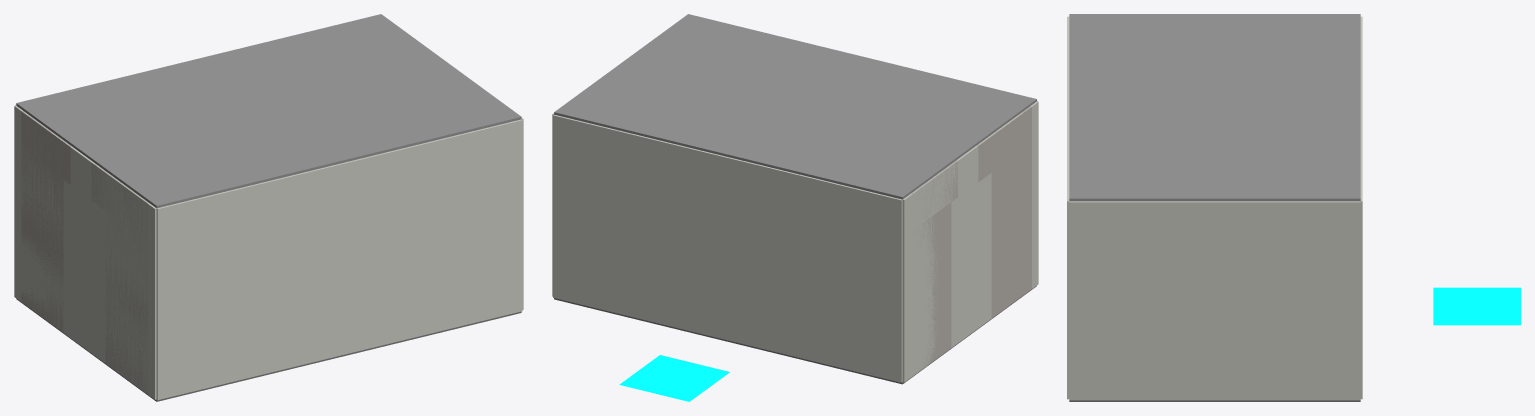
File: OfficeBuilding_5F.fbx
3 views of the same model, side by side, from view 1: azimuth 30°, elevation 25°; view 2: azimuth 150°, elevation 25°; view 3: azimuth 270°, elevation 25° (orthographic). The views are drawn at different scales.
Parts seen in each view (by area): view 1: F5_Ceiling, F5_Wall_F, F1_Wall_F, F2_Wall_F, F3_Wall_F, F4_Wall_F, F4_Wall_L, F2_Wall_L, F1_Wall_L, F3_Wall_L, F5_Wall_L, F5_ExecutiveOffice_W (+9 smaller); view 2: F5_Ceiling, F5_Wall_B, F1_Wall_B, F2_Wall_B, F3_Wall_B, F4_Wall_B, F5_Wall_L, F3_Wall_L, F2_Wall_L, F1_Wall_L, F4_Wall_L, EVAC_AssemblyMarker (+11 smaller); view 3: F5_Ceiling, F1_Wall_R, F5_Wall_R, F2_Wall_R, F3_Wall_R, F4_Wall_R, EVAC_AssemblyMarker, F5_Wall_B, F5_Wall_F, F1_Slab.
Boxes of the visible parts, bbox=[...] form: F5_Ceiling: bbox=[16, 14, 521, 208]; F5_Wall_F: bbox=[156, 119, 522, 247]; F1_Wall_F: bbox=[156, 273, 522, 399]; F2_Wall_F: bbox=[156, 235, 522, 361]; F3_Wall_F: bbox=[156, 196, 522, 323]; F4_Wall_F: bbox=[156, 158, 522, 285]; F4_Wall_L: bbox=[14, 144, 156, 284]; F2_Wall_L: bbox=[14, 221, 156, 361]; F1_Wall_L: bbox=[14, 259, 156, 399]; F3_Wall_L: bbox=[14, 182, 156, 323]; F5_Wall_L: bbox=[14, 105, 156, 246]; F5_ExecutiveOffice_W: bbox=[21, 111, 71, 184]; F5_Ceiling: bbox=[554, 14, 1036, 199]; F5_Wall_B: bbox=[553, 114, 902, 236]; F1_Wall_B: bbox=[553, 261, 902, 382]; F2_Wall_B: bbox=[553, 225, 902, 346]; F3_Wall_B: bbox=[553, 188, 902, 309]; F4_Wall_B: bbox=[553, 152, 902, 273]; F5_Wall_L: bbox=[902, 101, 1038, 236]; F3_Wall_L: bbox=[902, 175, 1038, 309]; F2_Wall_L: bbox=[902, 211, 1038, 345]; F1_Wall_L: bbox=[902, 248, 1038, 382]; F4_Wall_L: bbox=[902, 138, 1038, 272]; EVAC_AssemblyMarker: bbox=[619, 355, 729, 401]; F5_Ceiling: bbox=[1069, 14, 1360, 201]; F1_Wall_R: bbox=[1069, 360, 1360, 400]; F5_Wall_R: bbox=[1069, 201, 1360, 241]; F2_Wall_R: bbox=[1069, 321, 1360, 360]; F3_Wall_R: bbox=[1069, 281, 1360, 320]; F4_Wall_R: bbox=[1069, 242, 1360, 281]; EVAC_AssemblyMarker: bbox=[1433, 287, 1520, 325]; F5_Wall_B: bbox=[1360, 16, 1362, 240]; F5_Wall_F: bbox=[1067, 16, 1069, 240]; F1_Slab: bbox=[1069, 400, 1360, 401].
Bounding box in the file's own units: 30.3 × 15.4 × 31.15.
